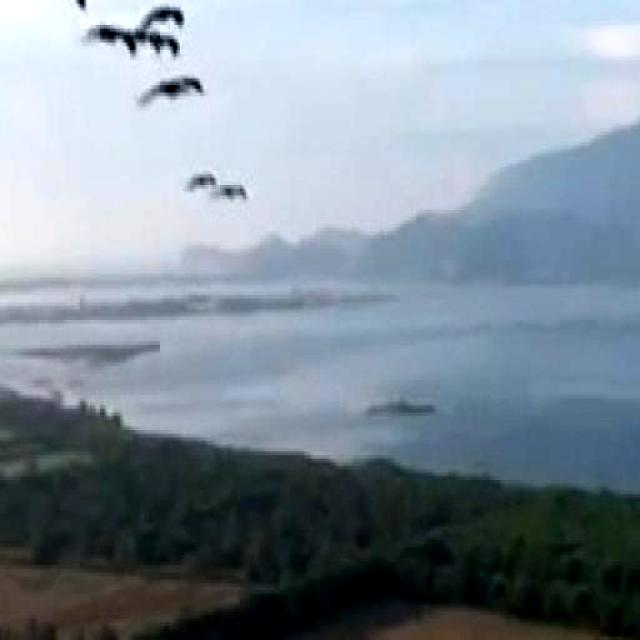airplane: (80, 12, 138, 61), (136, 72, 206, 109), (131, 22, 180, 56), (138, 0, 188, 30), (0, 0, 88, 16), (209, 179, 254, 209), (184, 165, 219, 196)
